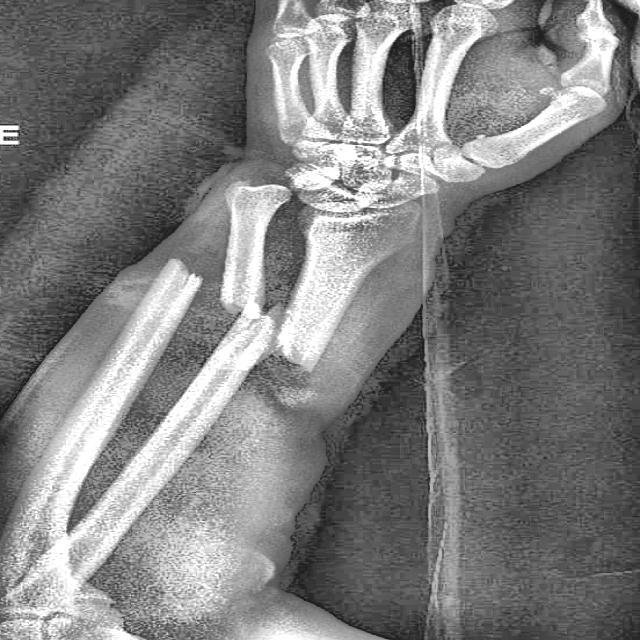fracture: (165, 252, 238, 292), (245, 311, 302, 356)
